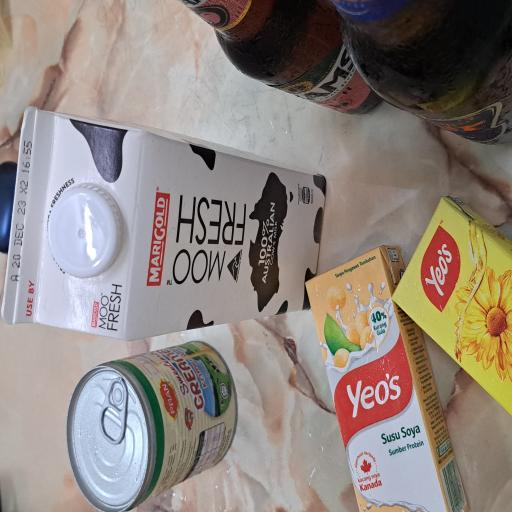can: (0, 88, 129, 316)
drink carton: (130, 0, 306, 437), (0, 405, 201, 512), (178, 65, 246, 166)
glass bottle: (300, 241, 384, 511)
pop tab: (52, 134, 102, 170)
